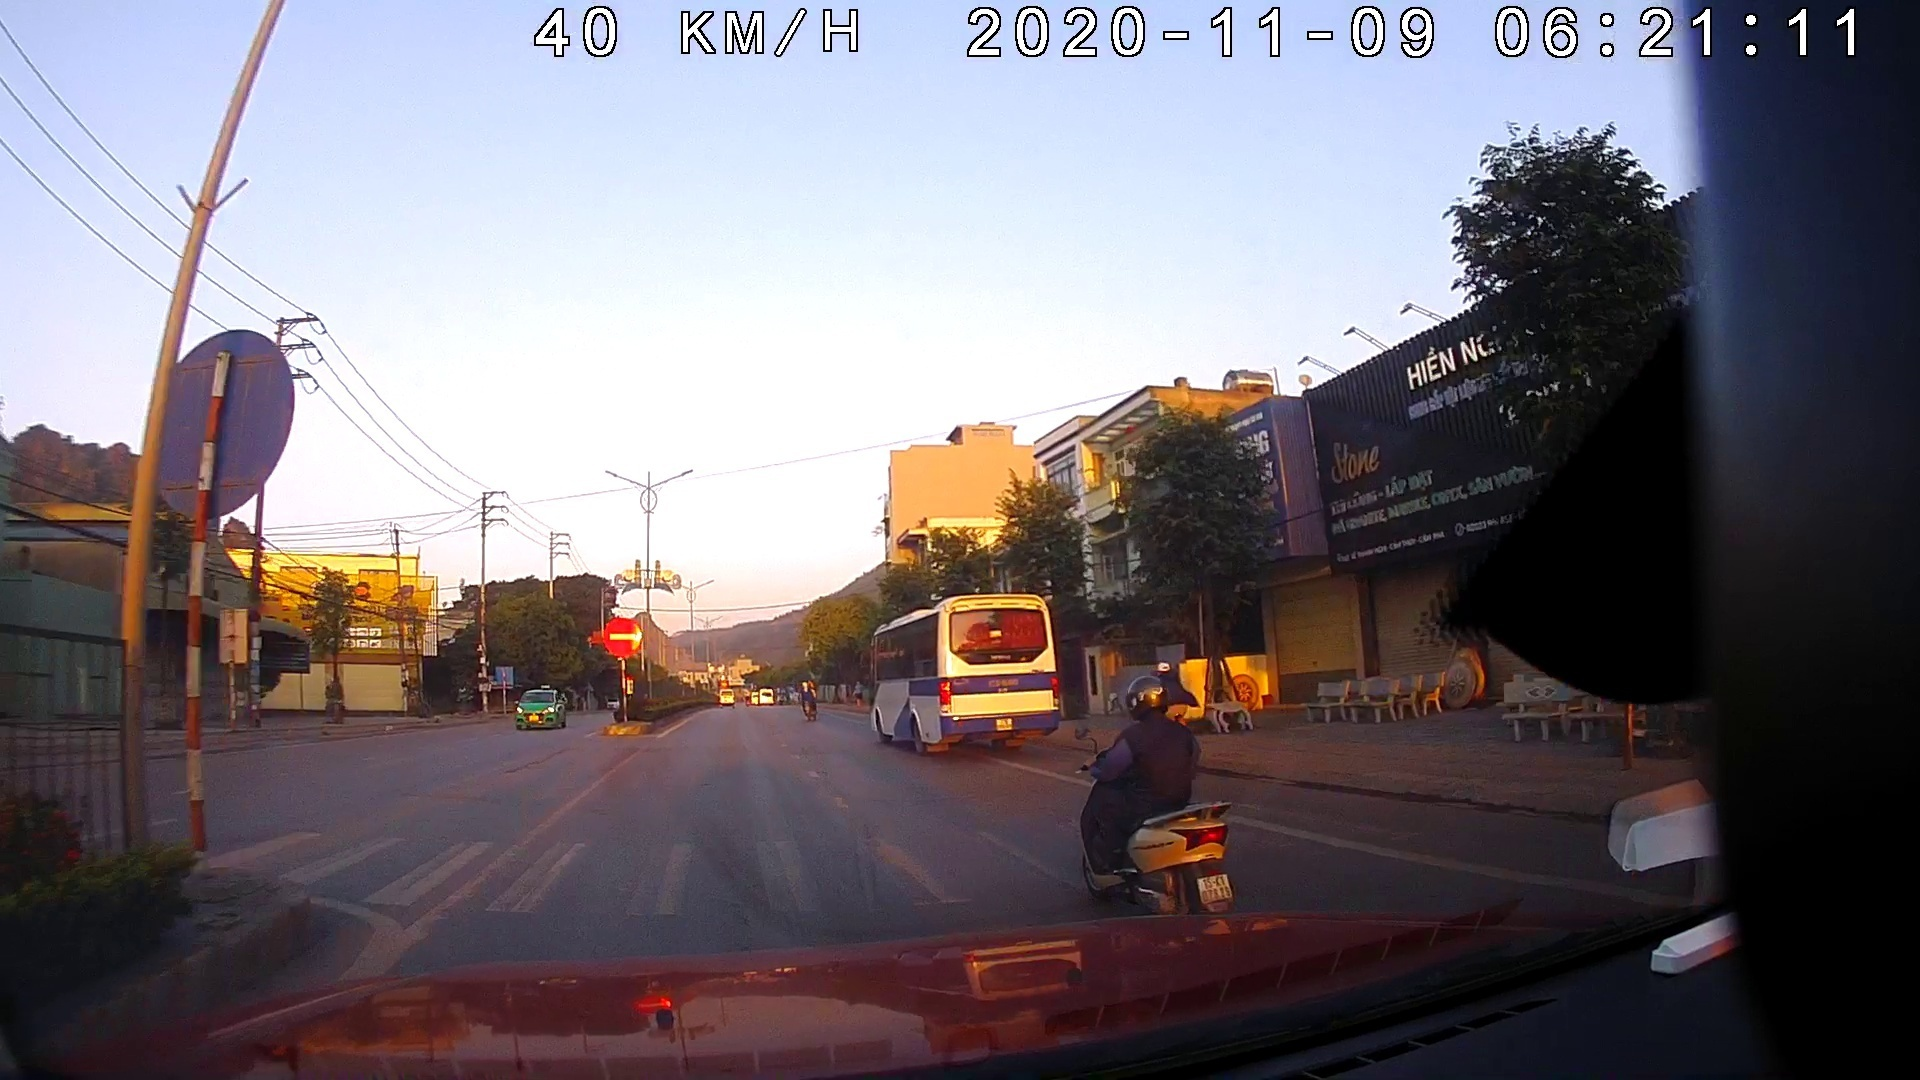Cam di nguoc chieu: (604, 618, 644, 658)
